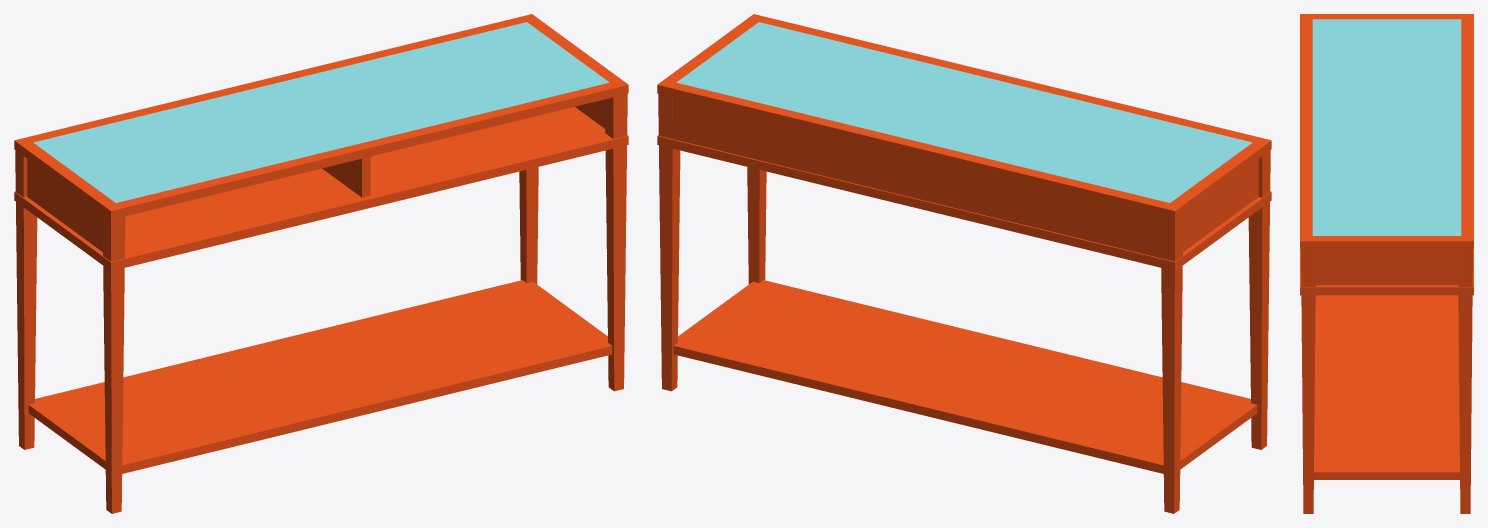
The model's file is office_table_012.glb.
The picture shows the model from 3 angles, left to right: view 1: azimuth 30°, elevation 25°; view 2: azimuth 150°, elevation 25°; view 3: azimuth 270°, elevation 25°; orthographic projection. The views are drawn at different scales.
Parts seen in each view (by area): view 1: office_table_012; view 2: office_table_012; view 3: office_table_012.
Part boxes in pixels (x1,y1,x2,y2): office_table_012: [14, 14, 628, 513]; office_table_012: [657, 14, 1271, 513]; office_table_012: [1300, 14, 1473, 513].
Size of the model in its own units: 1.15 by 0.6453 by 0.371.
Materials: 1 (1 with a texture image).
